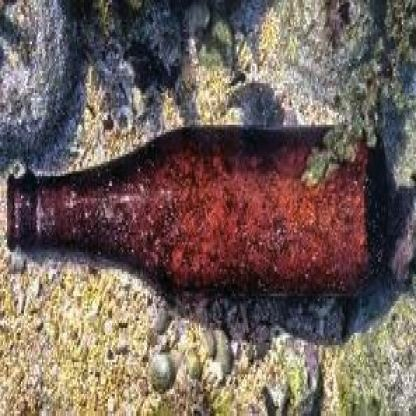gbottle: (8, 130, 388, 294)
